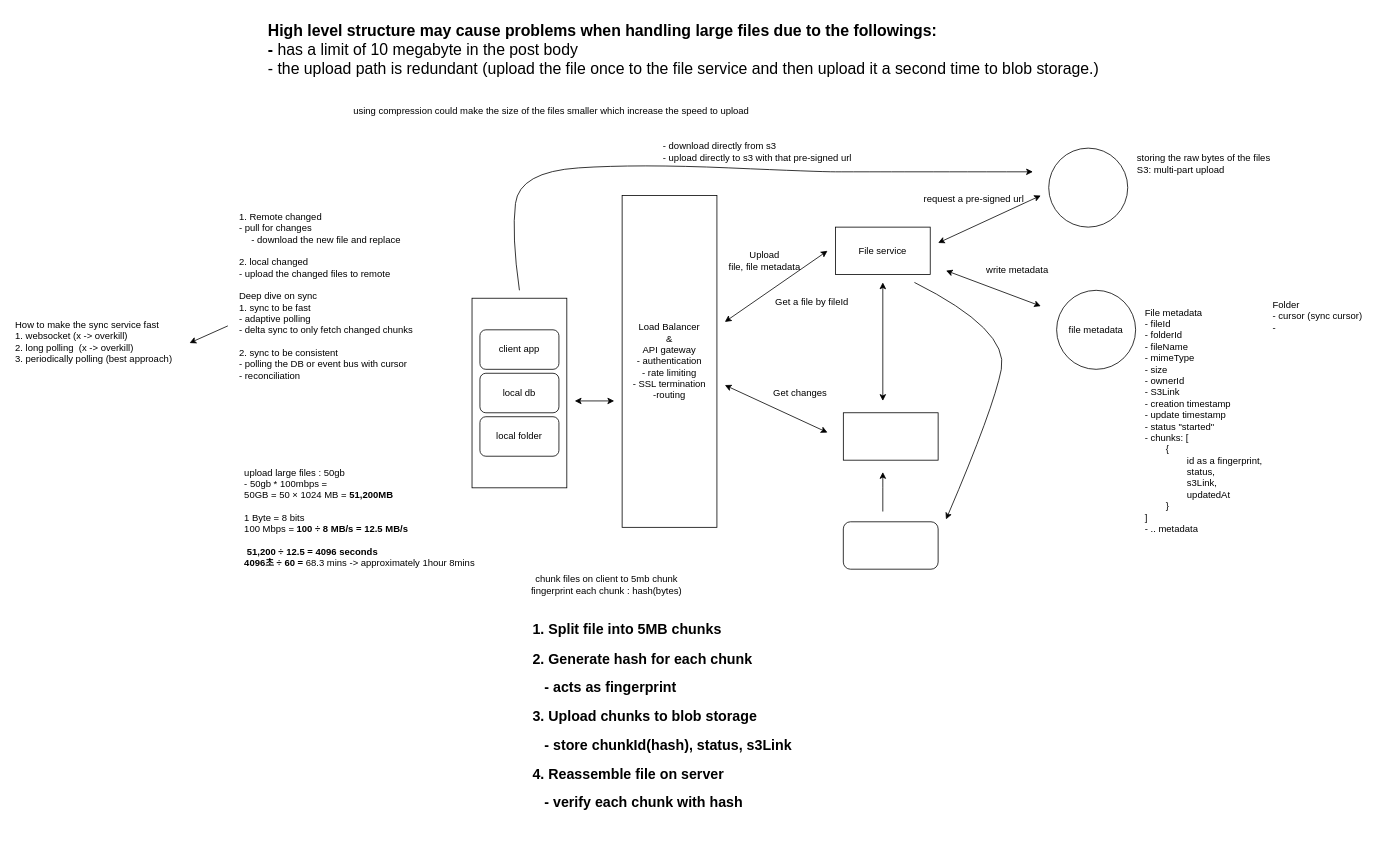
This 1386x841 diagram has some shape labels left out. Here are the shapes that lost their labels. From the top down, the box of each, then its label:
(1048, 147, 1128, 227): blob storage (s3)
(843, 412, 938, 460): Sync service
(843, 521, 938, 569): event bus
